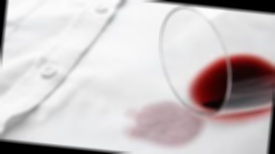wine: (124, 94, 209, 149)
